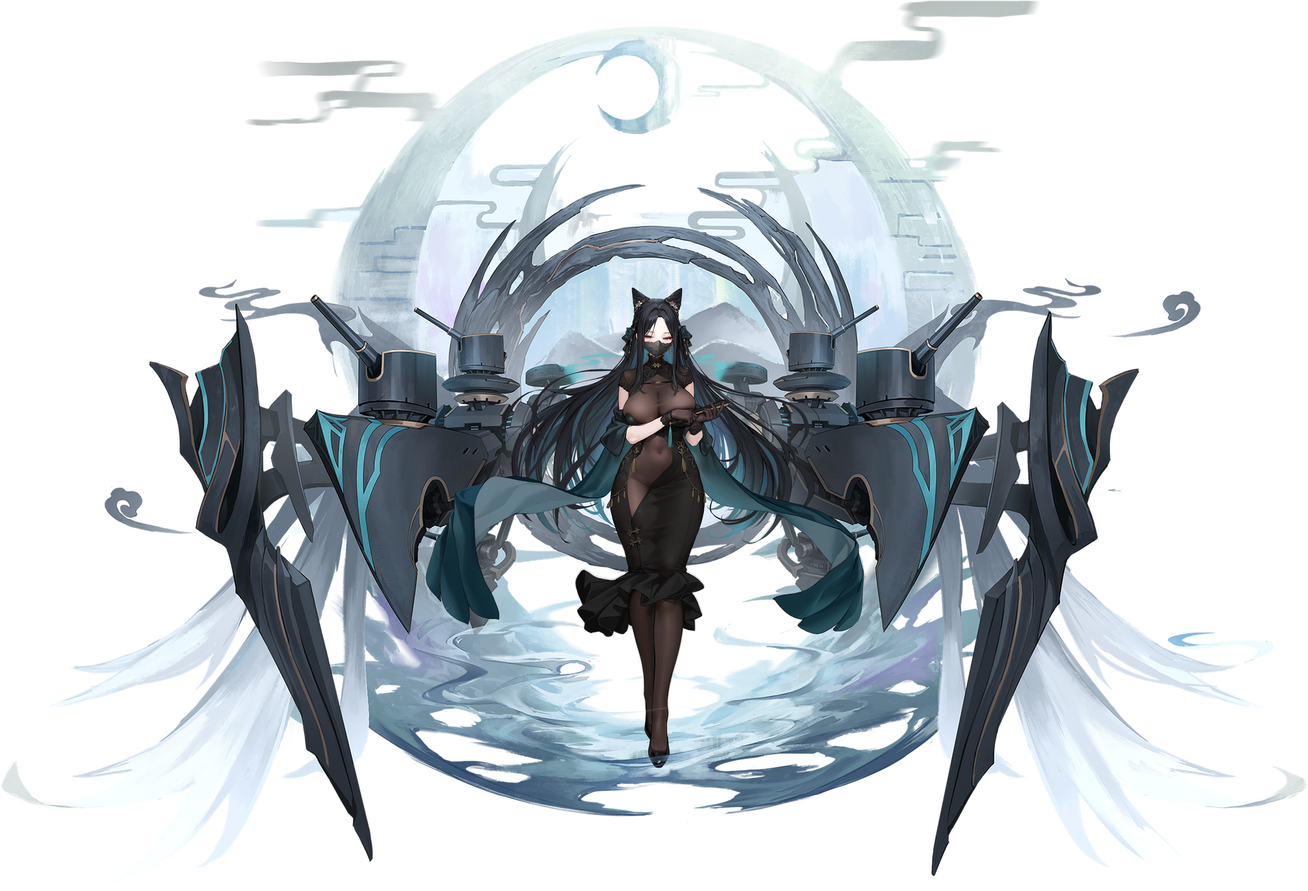person: (505, 266, 820, 803)
